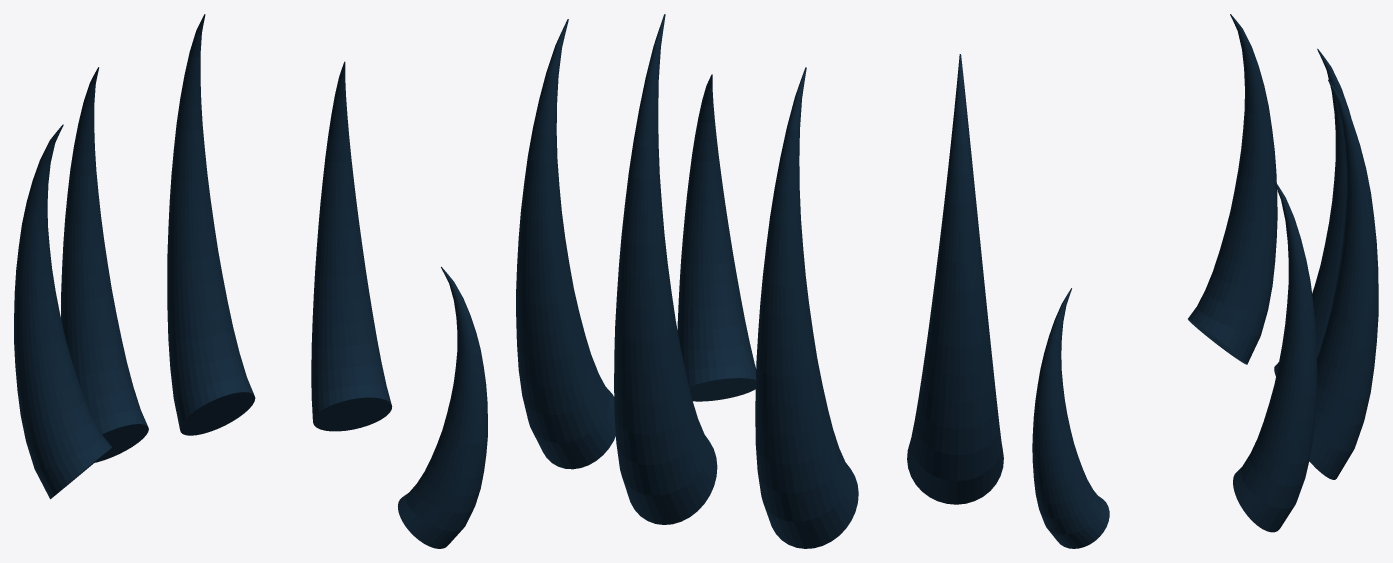
File: Krallen.fbx
3 renders of one model, left to right at view 1: azimuth 30°, elevation 25°; view 2: azimuth 150°, elevation 25°; view 3: azimuth 270°, elevation 25°, orthographic. The views are drawn at different scales.
Parts seen in each view (by area): view 1: Cylinder, Cylinder.001, Cylinder.004, Cylinder.002, Cylinder.003; view 2: Cylinder, Cylinder.002, Cylinder.004, Cylinder.001, Cylinder.003; view 3: Cylinder, Cylinder.004, Cylinder.001, Cylinder.003, Cylinder.002.
Boxes of the visible parts, x1,y1,x2,y2 form: Cylinder: (167,14,255,435); Cylinder.001: (311,61,392,431); Cylinder.004: (14,124,112,499); Cylinder.002: (61,67,148,462); Cylinder.003: (398,266,487,548); Cylinder: (614,14,717,524); Cylinder.002: (755,67,858,548); Cylinder.004: (907,54,1003,504); Cylinder.001: (516,19,615,469); Cylinder.003: (677,74,756,401); Cylinder: (1309,79,1378,479); Cylinder.004: (1188,14,1277,364); Cylinder.001: (1233,179,1317,532); Cylinder.003: (1032,288,1109,548); Cylinder.002: (1274,48,1351,375).
Bounding box in the file's own units: 425 × 492 × 367.
